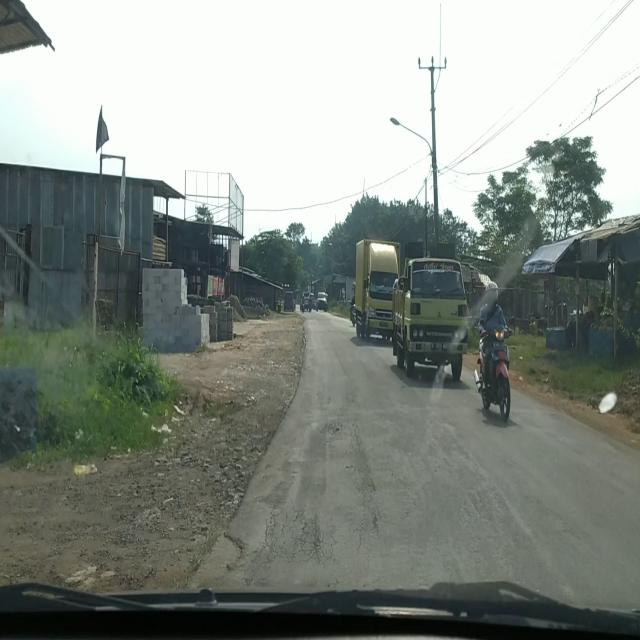Drain Hole: (322, 410, 378, 521), (260, 502, 335, 563)
